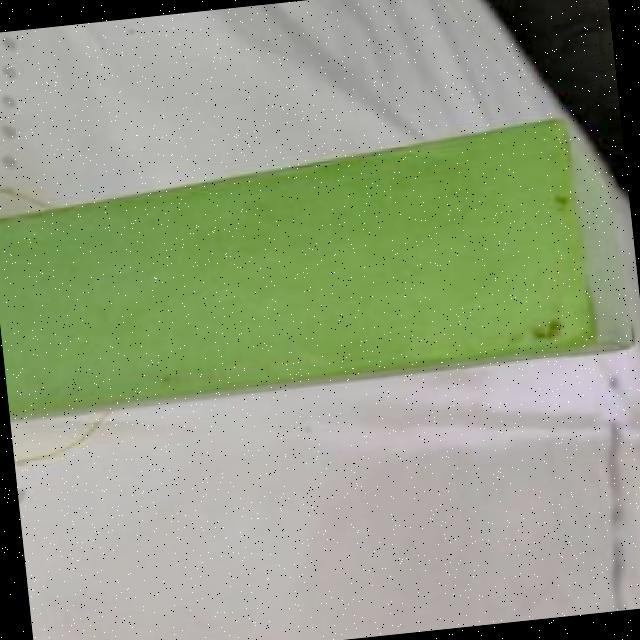greenbox: (0, 113, 639, 420)
